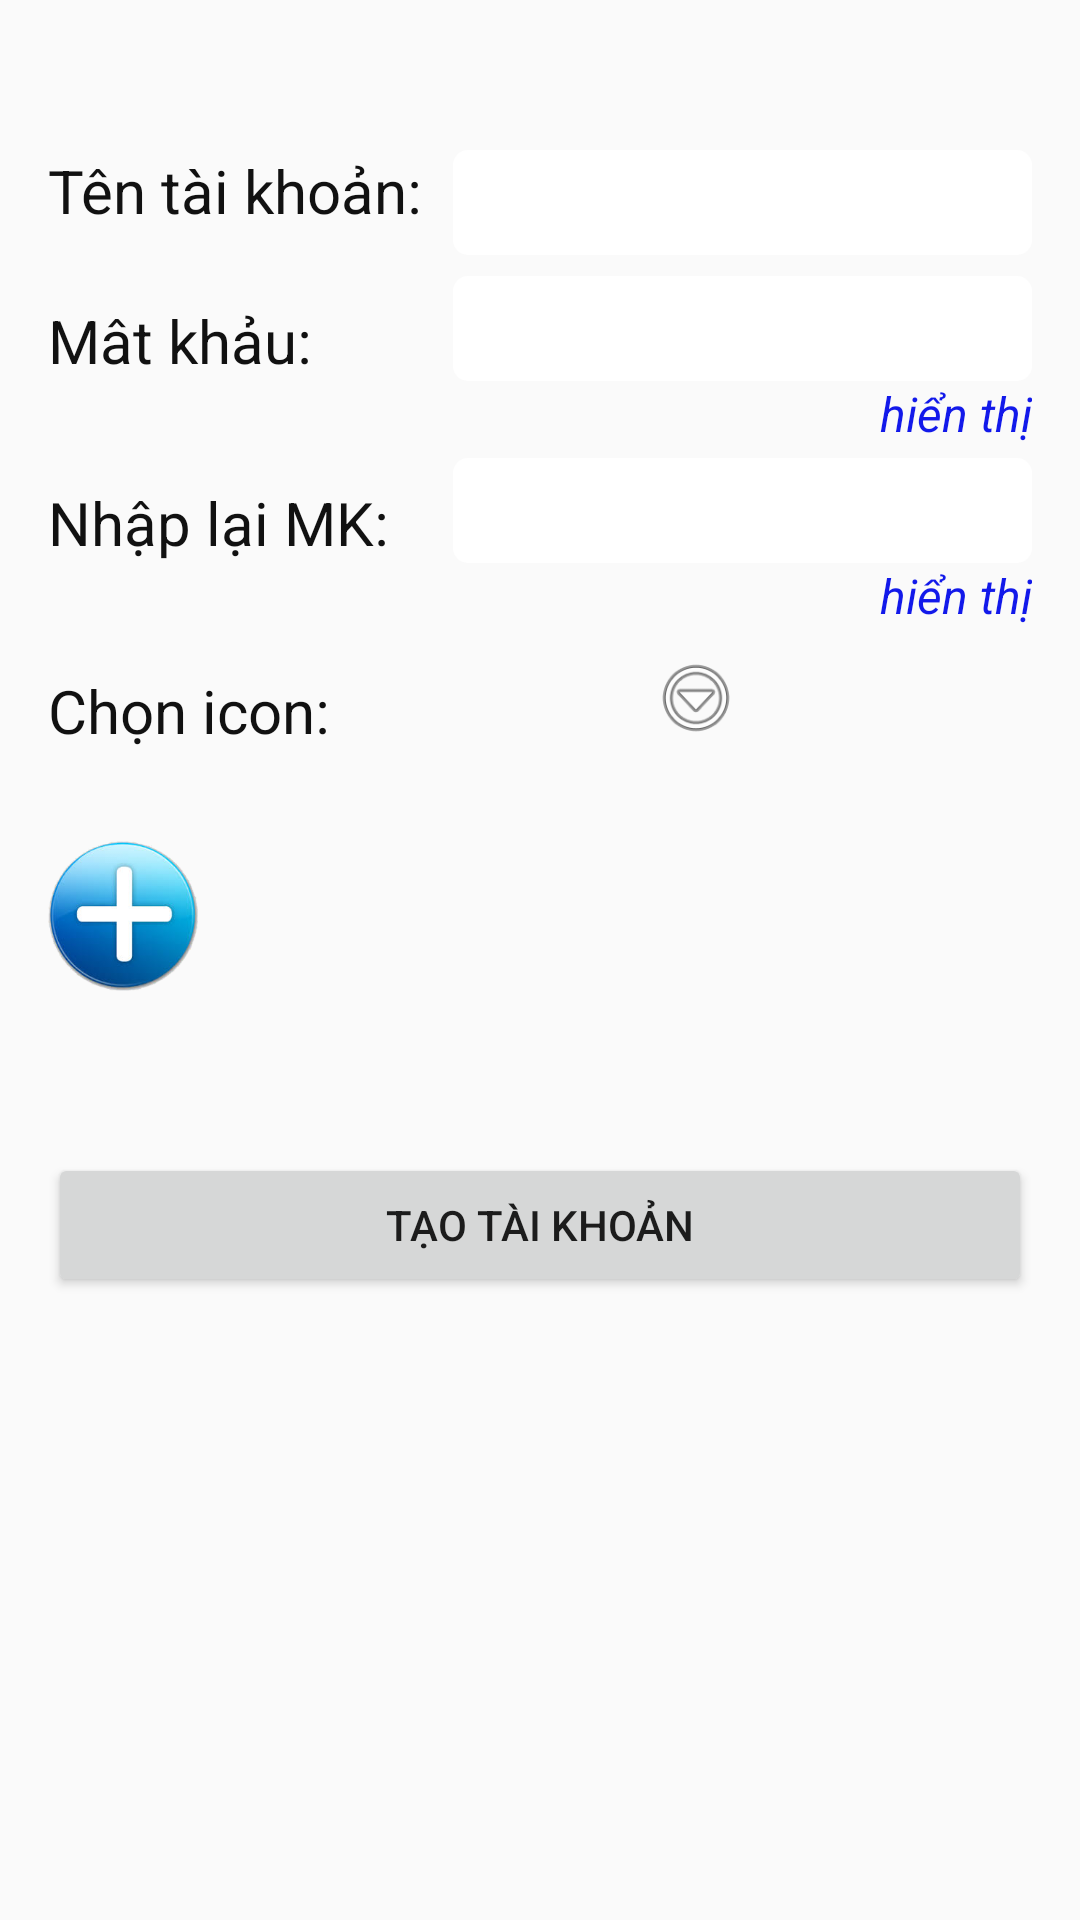

Icon bounding boxes for this 1080 x 1920 phone screenshot, format (x1, y1, x2, y2):
add: (49, 842, 198, 990)
